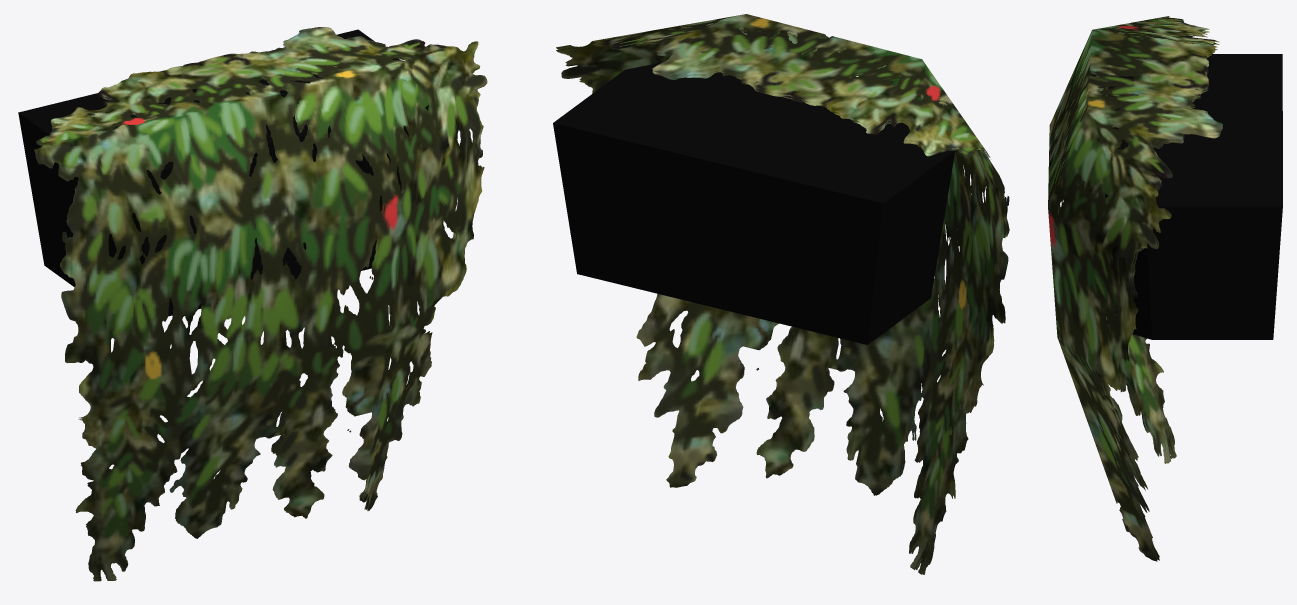
The model's file is flowerpot_03_ds.fbx.
The picture shows the model from 3 angles, left to right: view 1: azimuth 30°, elevation 25°; view 2: azimuth 150°, elevation 25°; view 3: azimuth 270°, elevation 25°; orthographic projection. The views are drawn at different scales.
Visible parts, largest first — view 1: flowerpot_03_ds; view 2: flowerpot_03_ds; view 3: flowerpot_03_ds.
Boxes of the visible parts, box(x1,y1,x2,y2) form: flowerpot_03_ds: box(18, 27, 487, 581); flowerpot_03_ds: box(553, 14, 1009, 574); flowerpot_03_ds: box(1048, 16, 1282, 561).
Size of the model in its own units: 1.2 by 1.2 by 0.5599.
